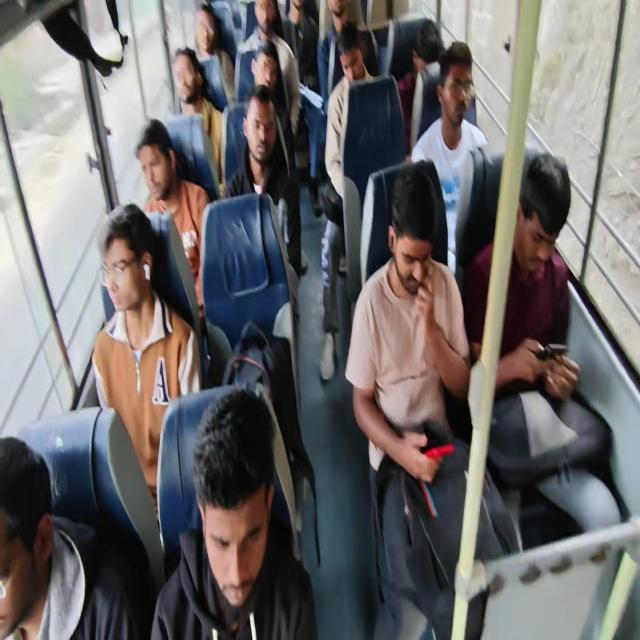person: (189, 394, 276, 597), (0, 444, 55, 625), (512, 157, 564, 289), (389, 166, 438, 297), (99, 214, 150, 316), (437, 59, 473, 148), (134, 128, 177, 200), (405, 19, 443, 96), (242, 101, 279, 168), (173, 50, 207, 121), (337, 47, 369, 95), (250, 58, 282, 99), (188, 6, 213, 55), (250, 1, 276, 44), (323, 0, 352, 27)
